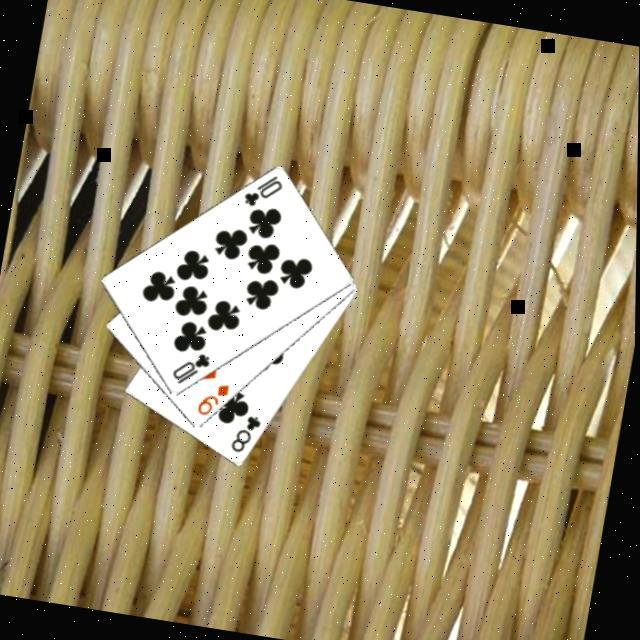10C: (241, 168, 290, 214), (170, 346, 217, 392)
8C: (229, 409, 268, 457)
9D: (195, 377, 236, 422)
